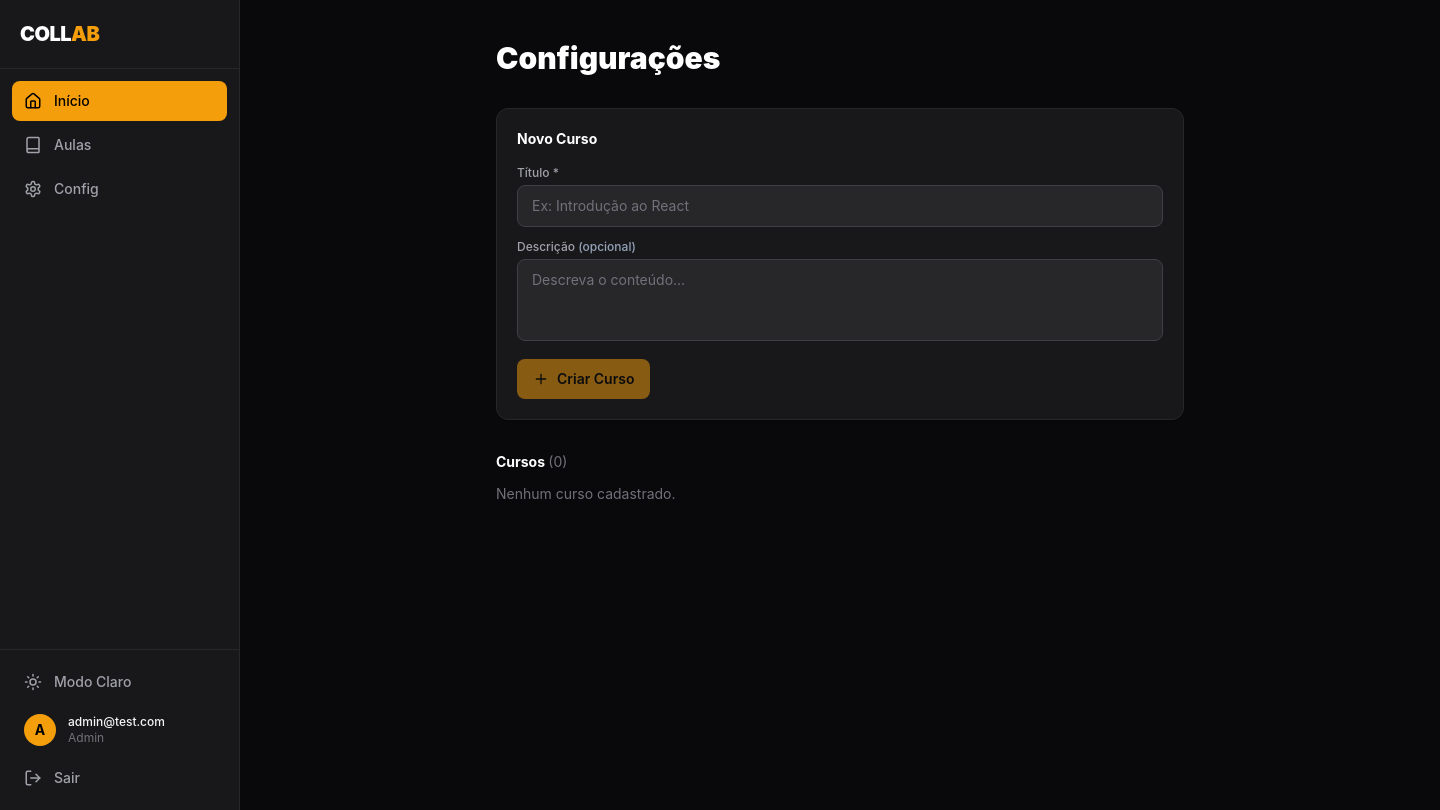
Test: ConfigPage › creates a new course
The image size is (1440, 810).
Type "Novo Curso X" into the field with placeholder "Ex: Introdução ao React" at (840, 206), box [517,185,1163,227]
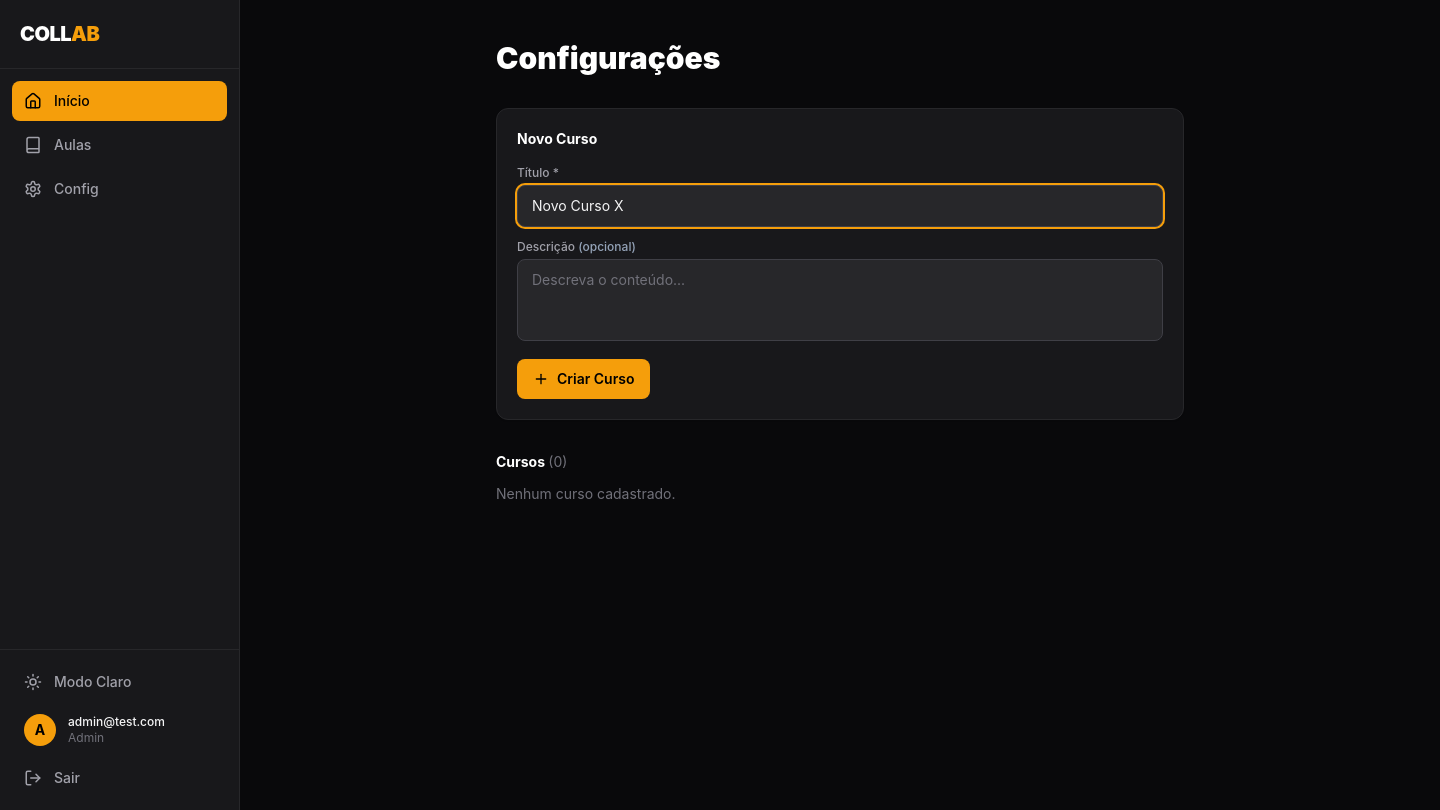
Click the button "Criar Curso" at (584, 379), box [517,359,650,399]
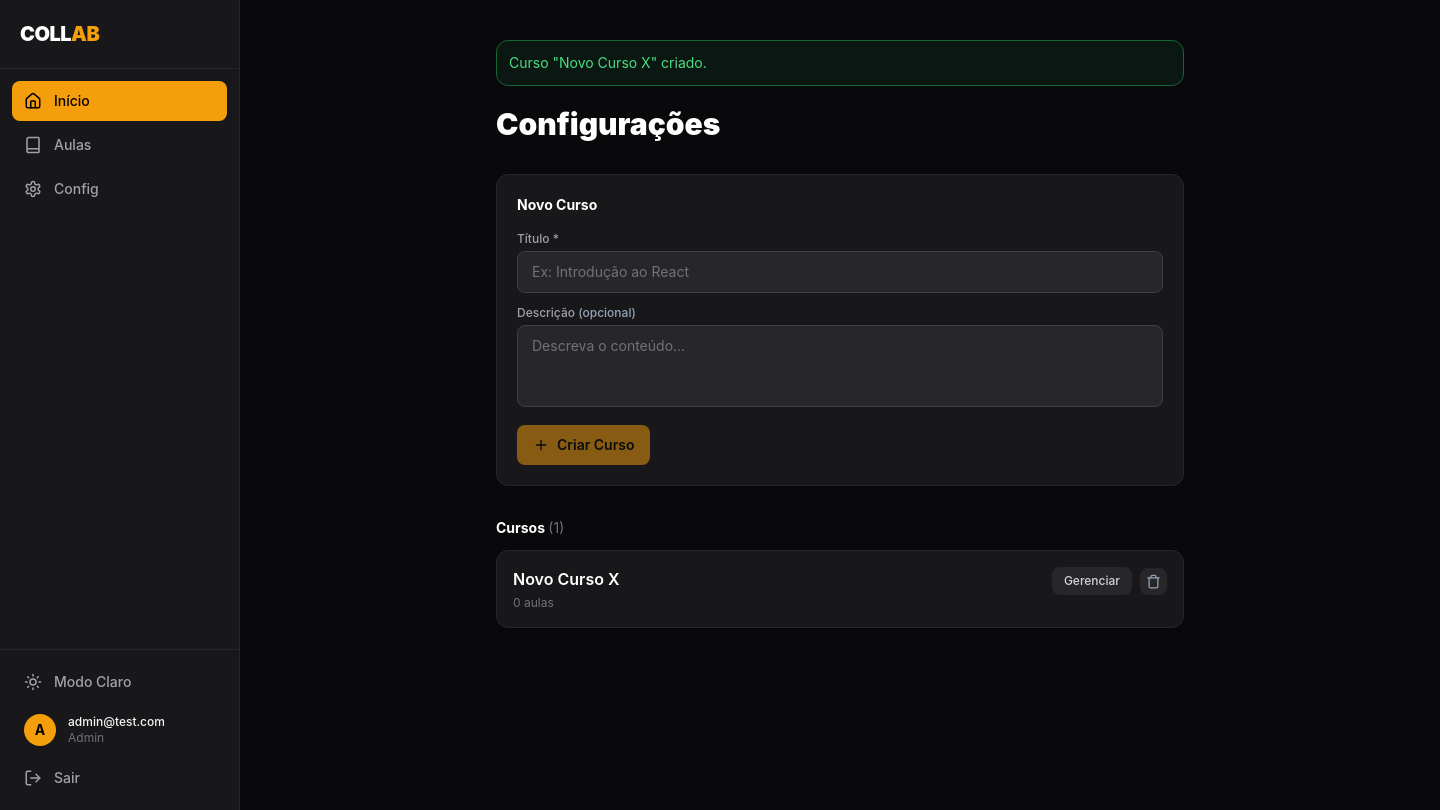
Expected: the text "Curso \"Novo Curso X\" criado." is shown, [496,40,1184,86]
Expected: the text "Novo Curso X" is shown, [513,567,620,591]
